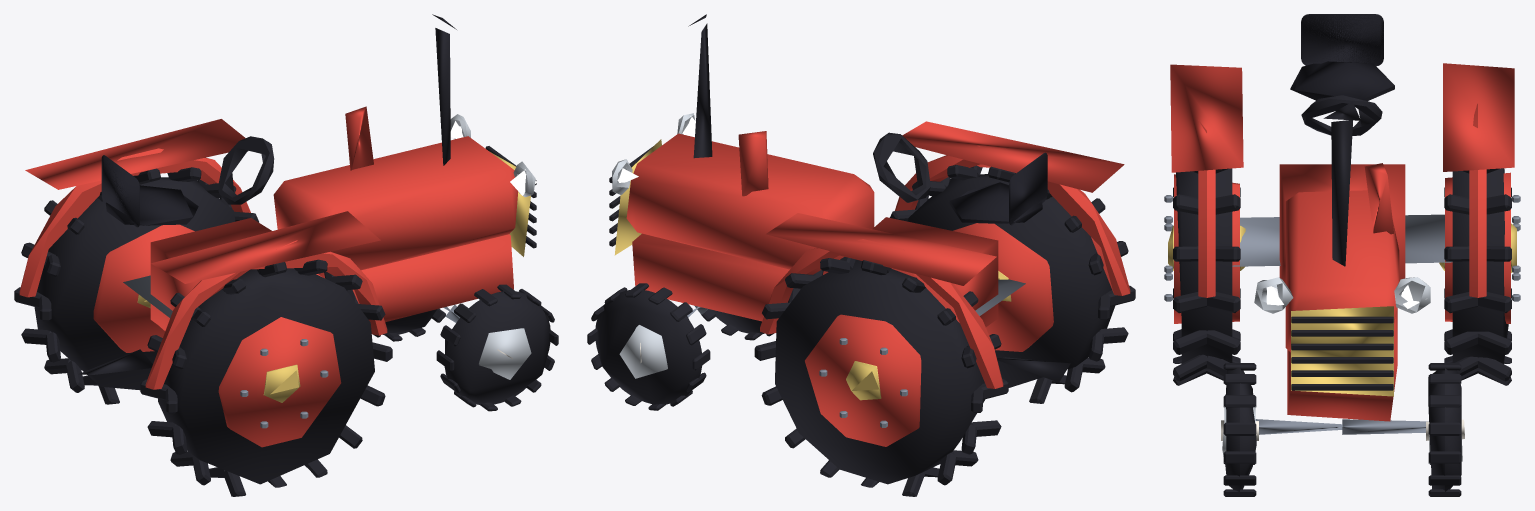
The model's file is tractor.glb.
The picture shows the model from 3 angles, left to right: view 1: azimuth 30°, elevation 25°; view 2: azimuth 150°, elevation 25°; view 3: azimuth 270°, elevation 25°; orthographic projection. The views are drawn at different scales.
Parts seen in each view (by area): view 1: tractor; view 2: tractor; view 3: tractor.
Boxes of the visible parts, x1,y1,x2,y2 form: tractor: [14, 14, 558, 496]; tractor: [587, 14, 1135, 496]; tractor: [1164, 14, 1520, 496].
Size of the model in its own units: 3.23 by 2.54 by 2.15.
Materials: 1 (1 with a texture image).
